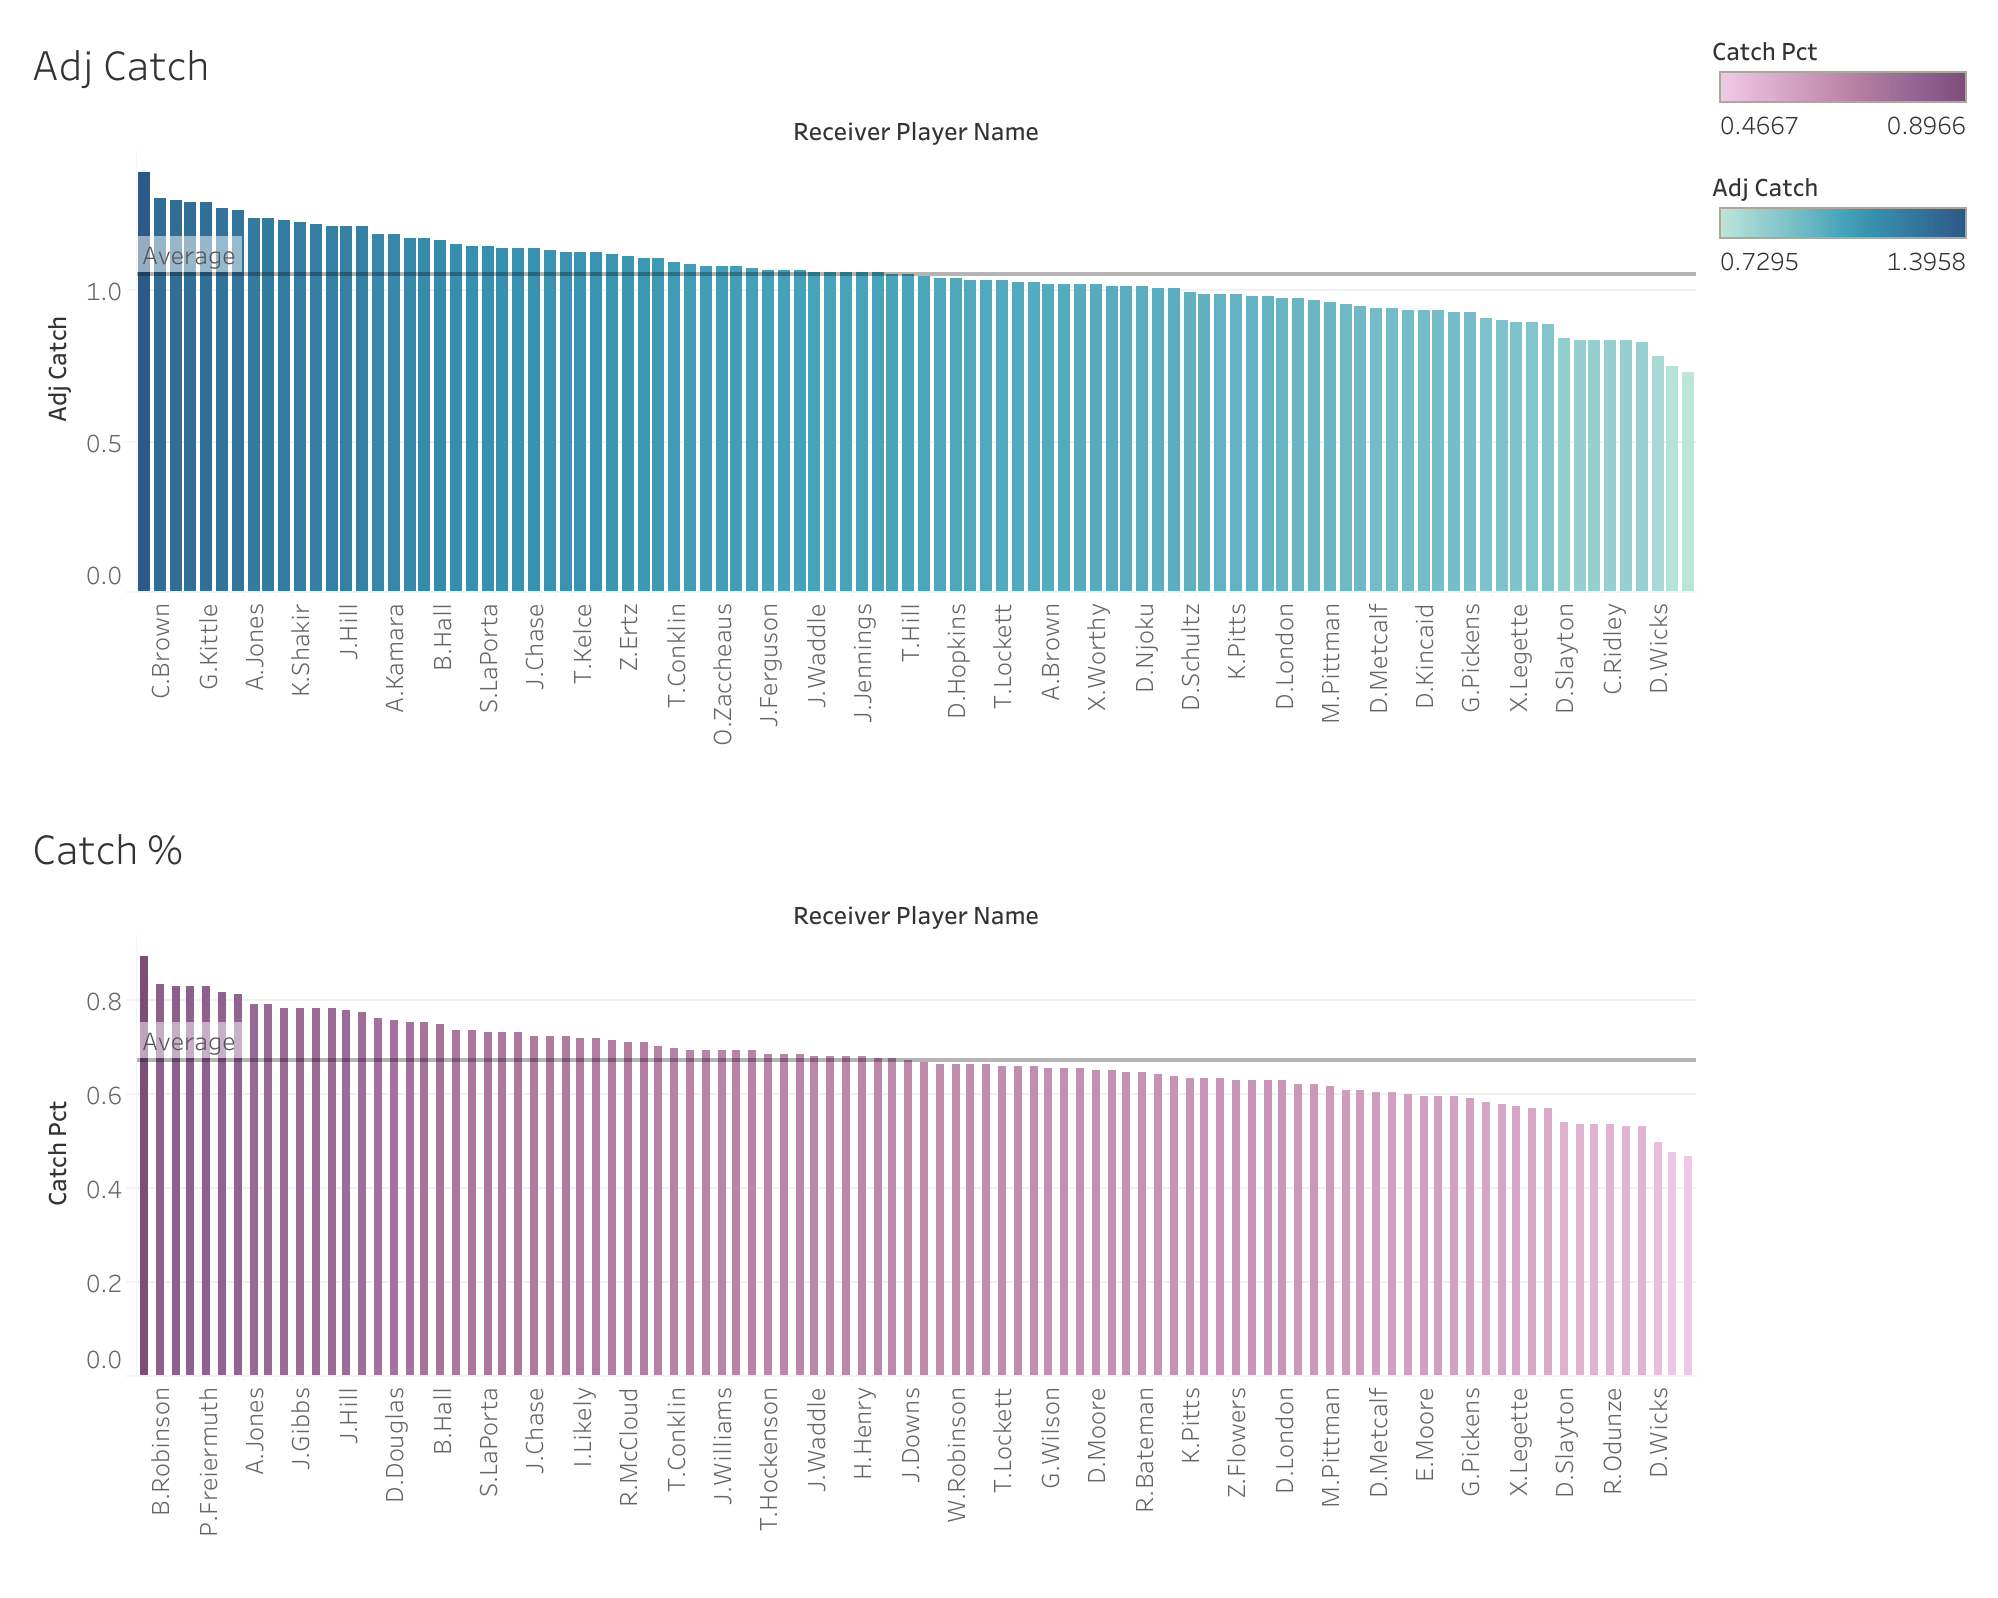

Layout of this report page (visuals, bound fields, positions):
{"tool":"tableau","page":{"name":"Receiver Performance: Raw vs Adjusted Catch Rates (2024 Season)","canvas":[1000,800],"ordinal":0},"visuals":[{"type":"worksheet","title":"Sheet 3","mark":"Automatic","rows":["adj_catch"],"cols":["receiver_player_name"],"box":[8,8,984,374]},{"type":"worksheet","title":"Sheet 2","mark":"Automatic","rows":["catch_pct"],"cols":["receiver_player_name"],"box":[8,382,842,410]},{"type":"legend","title":"Sheet 2","param":"[federated.1fj162y18iysu119fn6d901hum0y].[sum:catch_pct:qk]","box":[850,382,142,68]},{"type":"legend","title":"Sheet 3","param":"[federated.1fj162y18iysu119fn6d901hum0y].[sum:adj_catch:qk]","box":[850,450,142,68]}]}

Visuals, with their boxes in screenshot pixels (x1, y1, x2, y2), scaled from the page's 1000x800 canvas onto the 1998x1598 screenshot:
"Sheet 3" worksheet: (left=16, top=16, right=1982, bottom=763)
"Sheet 2" worksheet: (left=16, top=763, right=1698, bottom=1582)
"Sheet 2" legend: (left=1698, top=763, right=1982, bottom=899)
"Sheet 3" legend: (left=1698, top=899, right=1982, bottom=1035)
